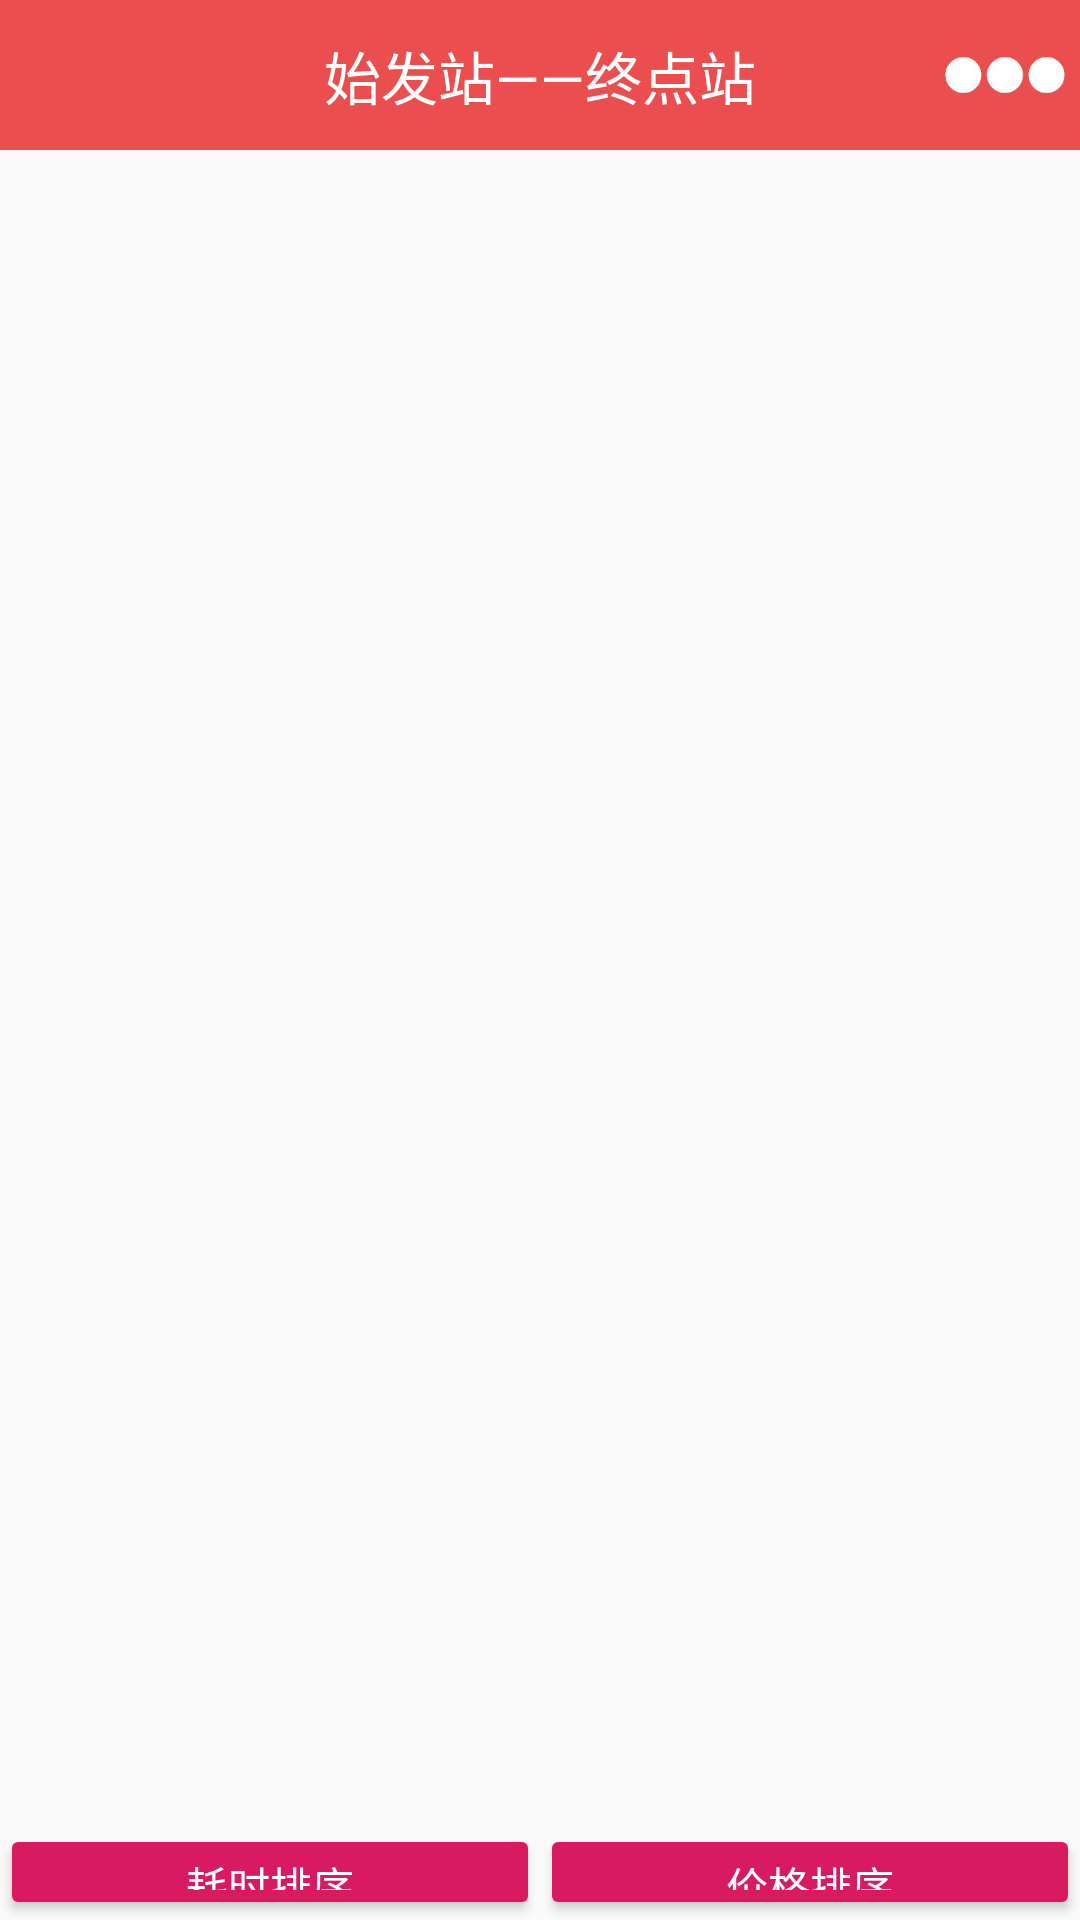

Icons on this 1080px x 1920px Android screen, each with the point to tap as (x,y):
menu: (1005,75)
